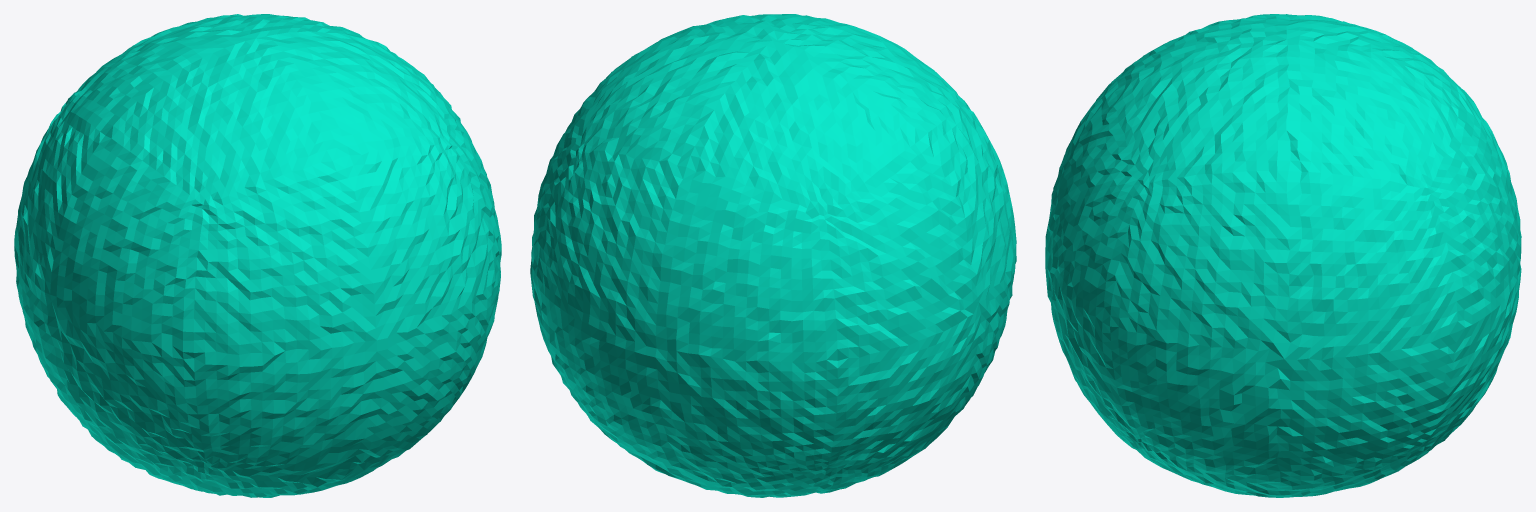
Rendered from Sea25.fbx.
The picture shows the model from 3 angles, left to right: view 1: azimuth 30°, elevation 25°; view 2: azimuth 150°, elevation 25°; view 3: azimuth 270°, elevation 25°; orthographic projection.
Visible parts, largest first — view 1: pCube1; view 2: pCube1; view 3: pCube1.
Part boxes in pixels (<box>): pCube1: <box>14,14,501,497</box>; pCube1: <box>530,14,1016,497</box>; pCube1: <box>1045,14,1521,497</box>.
Bounding box in the file's own units: 39.96 × 39.91 × 39.86.
